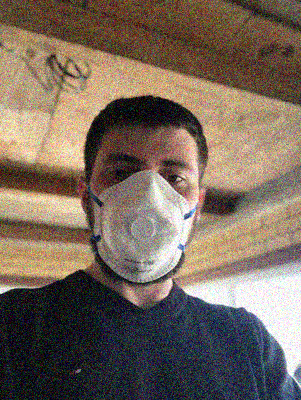with_mask: (88, 144, 197, 285)
